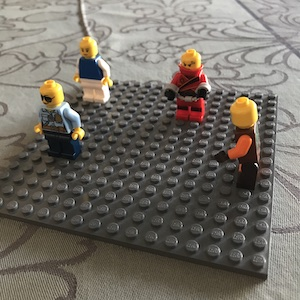Lego: (216, 97, 264, 189), (31, 80, 86, 159), (162, 48, 213, 121), (71, 36, 112, 107)
